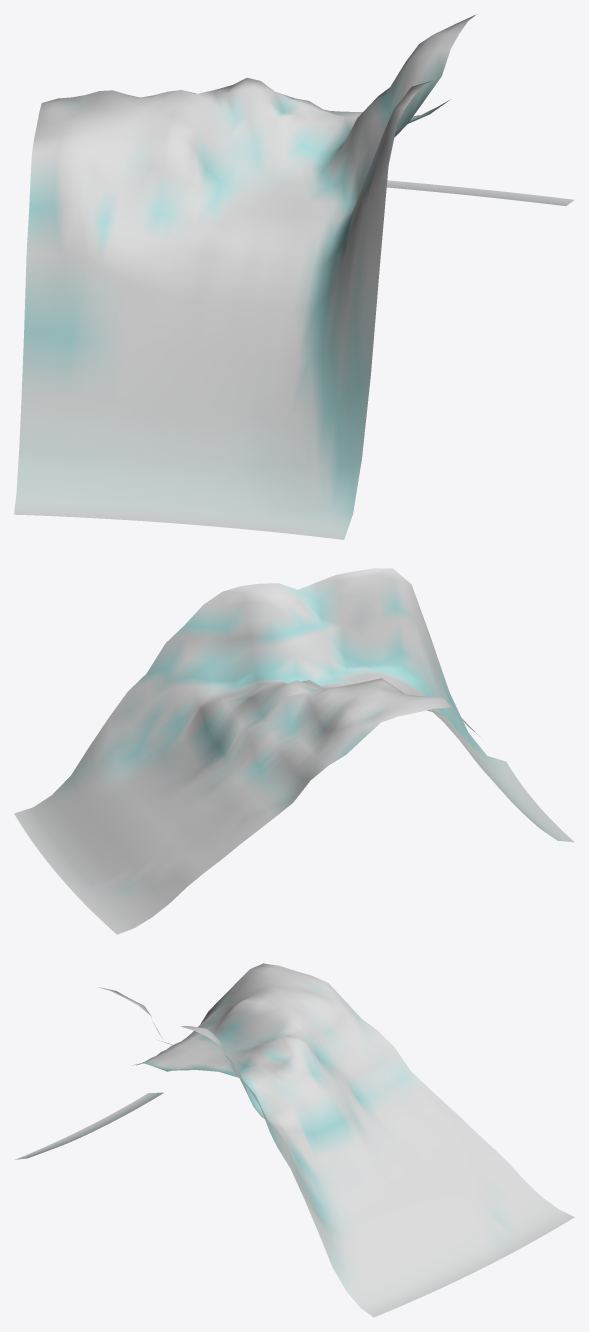
The model's file is near_13.glb.
The picture shows the model from 3 angles, top to bottom: view 1: azimuth 30°, elevation 25°; view 2: azimuth 150°, elevation 25°; view 3: azimuth 270°, elevation 25°; orthographic projection. The views are drawn at different scales.
Visible parts, largest first — view 1: Mountain; view 2: Mountain; view 3: Mountain.
Boxes of the visible parts, bbox=[...] form: Mountain: bbox=[14, 14, 574, 539]; Mountain: bbox=[14, 568, 574, 934]; Mountain: bbox=[15, 963, 574, 1317].
Size of the model in its own units: 359 by 158 by 379.
